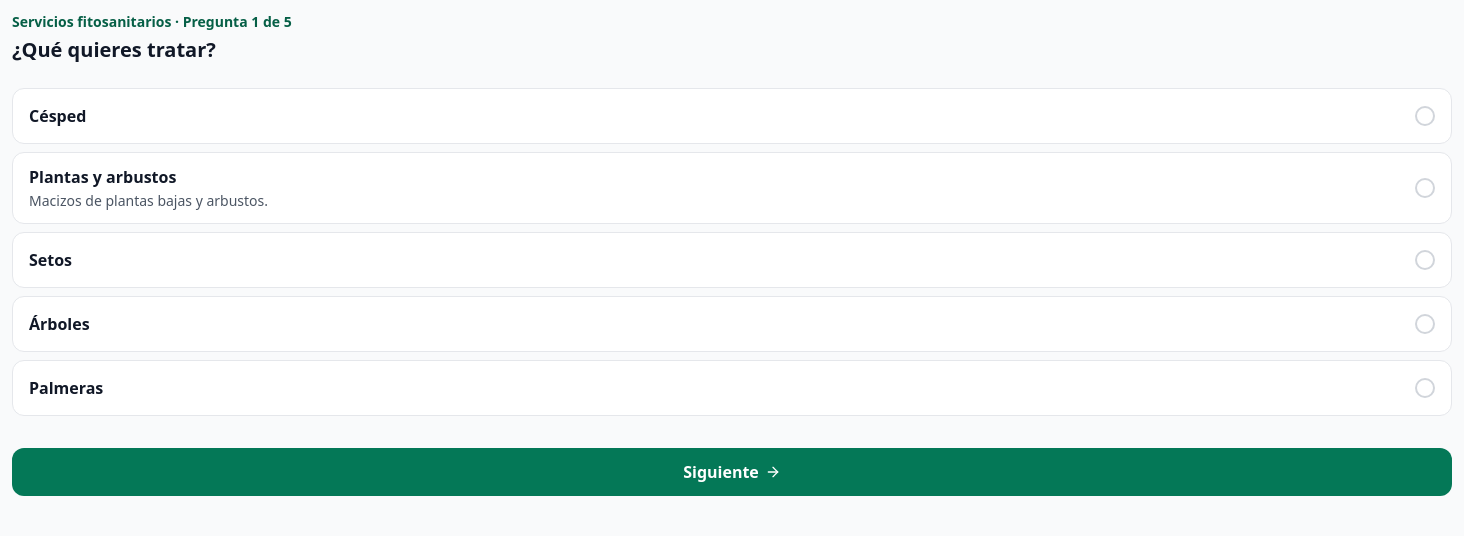
Test: fitosanitarios · cantidad y tamaño en una pantalla (D-05, P-08, D-12) › Plantas bajas: «¿Qué superficie de plantas hay que tratar?» con el campo «Superficie de plantas»
Click the radio button labelled "Plantas y arbustos Macizos de plantas bajas y arbustos.". click: point(103, 177)
box: [12,152,1452,224]
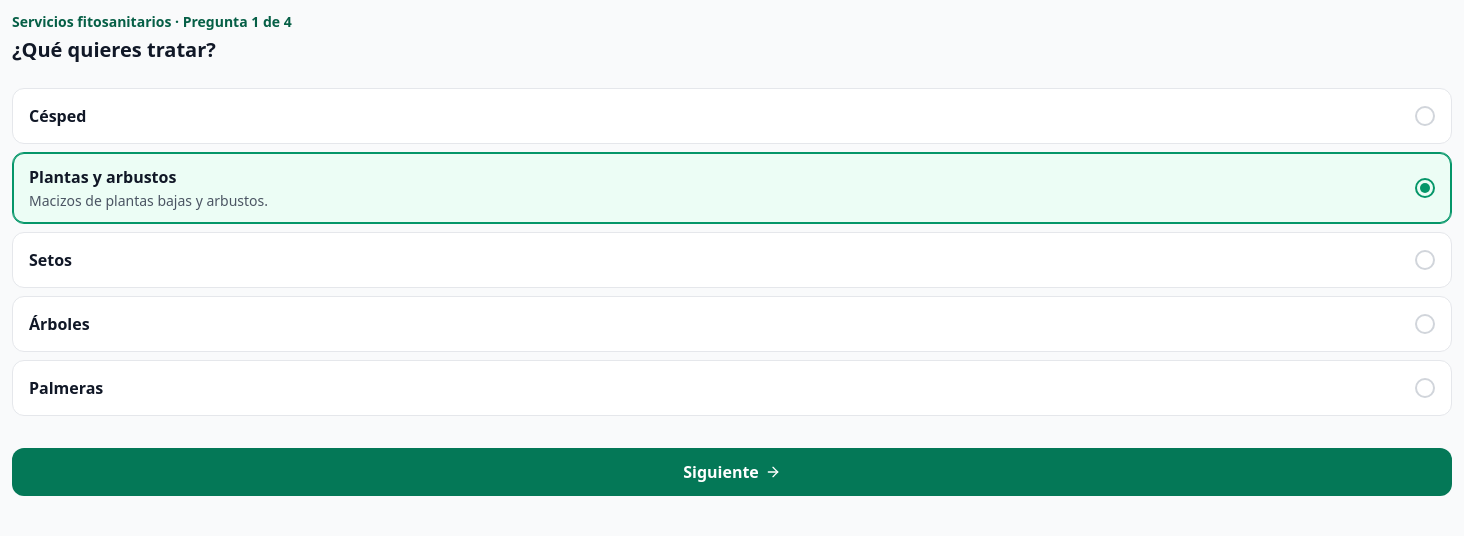
Click the button "Siguiente". click: point(732, 472)
box: [12,448,1452,496]
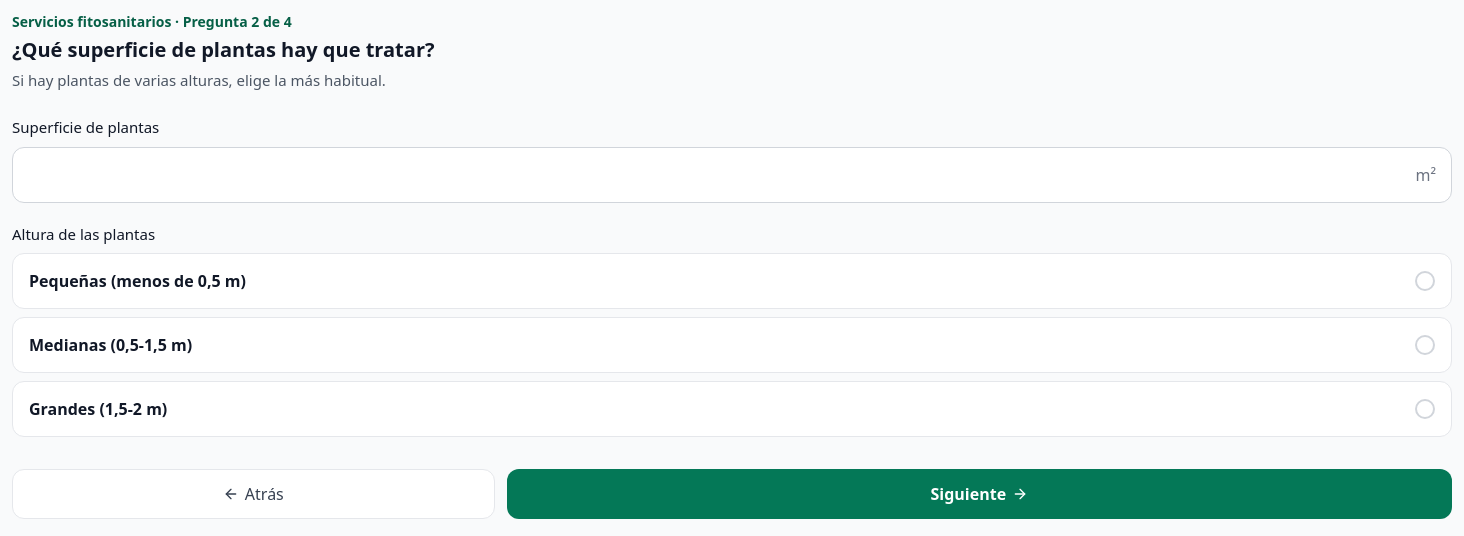
Expected: the heading reads "¿Qué superficie de plantas hay que tratar?", [12,36,434,63]
Expected: the field labelled "Superficie de plantas" is shown, [12,146,1452,202]
